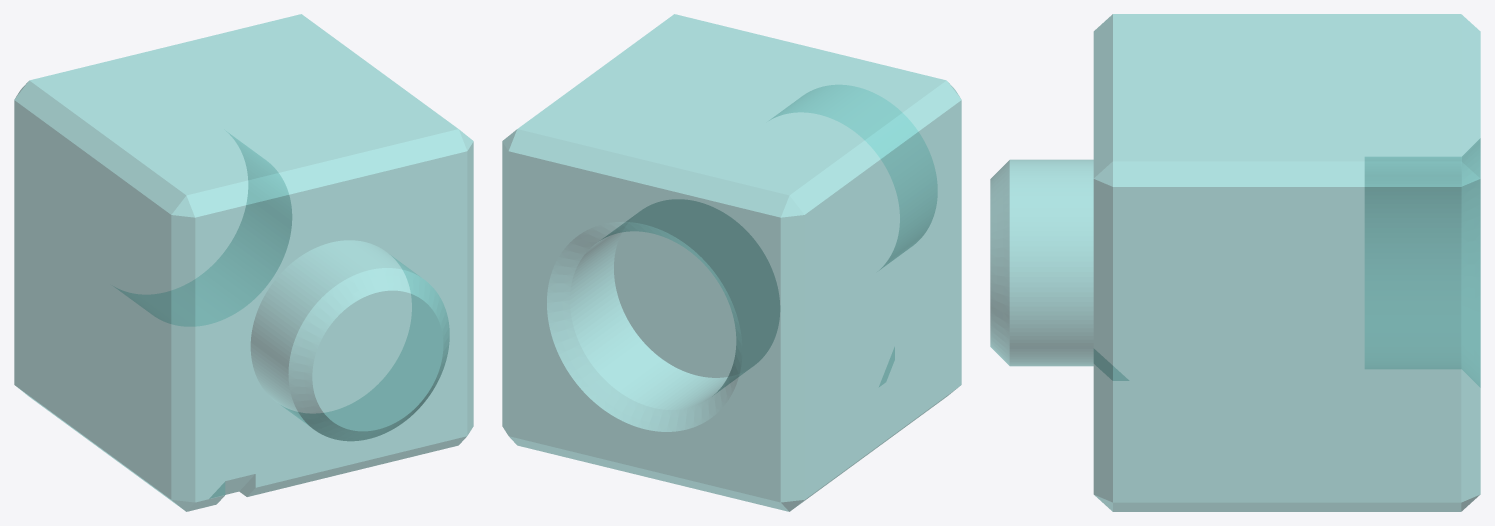
The model's file is coupon-crystal-socket-10@crystal.glb.
3 views of the same model, side by side, from view 1: azimuth 30°, elevation 25°; view 2: azimuth 150°, elevation 25°; view 3: azimuth 270°, elevation 25° (orthographic). The views are drawn at different scales.
Parts seen in each view (by area): view 1: geometry_0; view 2: geometry_0; view 3: geometry_0.
Boxes of the visible parts, box(x1,y1,x2,y2) form: geometry_0: box(14, 14, 473, 511); geometry_0: box(502, 14, 961, 511); geometry_0: box(990, 14, 1480, 511).
Size of the model in its own units: 6 by 6 by 7.6.
